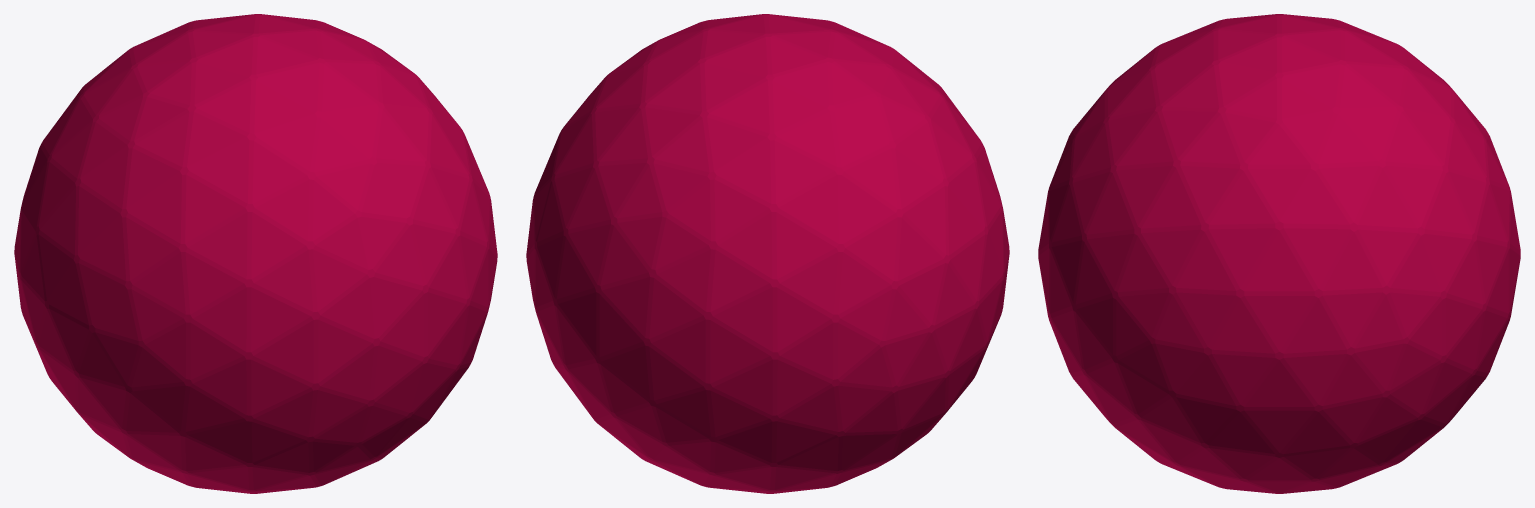
Rendered from ExempleSphere.fbx.
The picture shows the model from 3 angles, left to right: view 1: azimuth 30°, elevation 25°; view 2: azimuth 150°, elevation 25°; view 3: azimuth 270°, elevation 25°; orthographic projection.
Visible parts, largest first — view 1: Sphere; view 2: Sphere; view 3: Sphere.
Boxes of the visible parts, box(x1,y1,x2,y2) form: Sphere: box(14, 14, 497, 493); Sphere: box(526, 14, 1009, 493); Sphere: box(1038, 14, 1520, 493).
Bounding box in the file's own units: 398 × 398 × 398.
